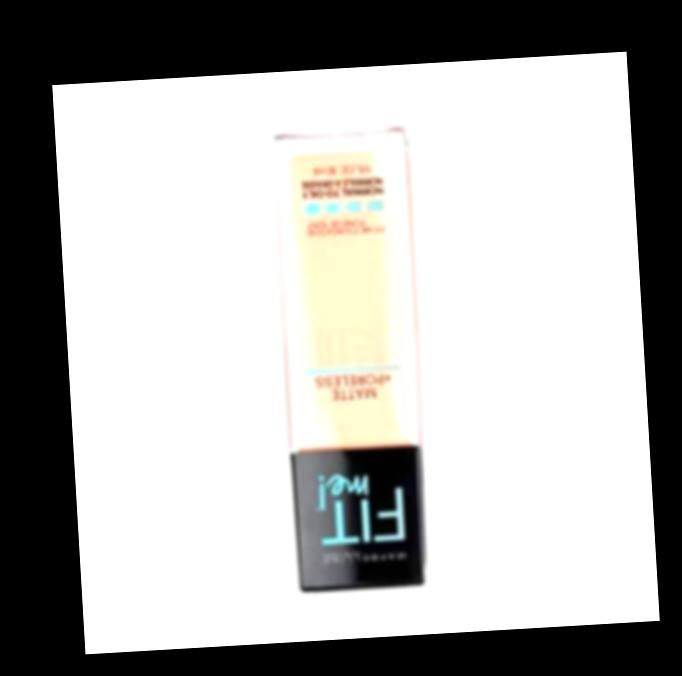cosmetic: (269, 117, 427, 593)
